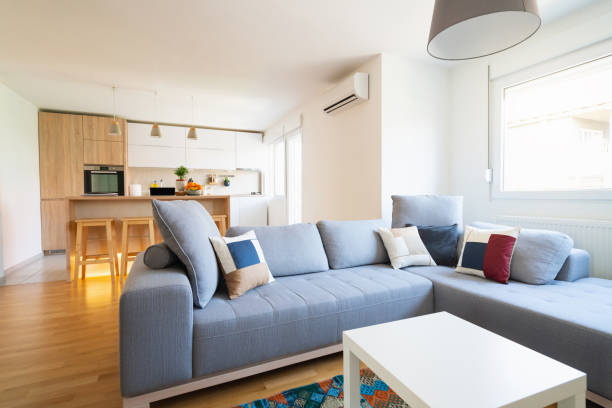dining table set: (60, 193, 231, 280)
small plant: (173, 165, 188, 191)
sofa: (118, 193, 612, 408)
table: (339, 309, 589, 408)
